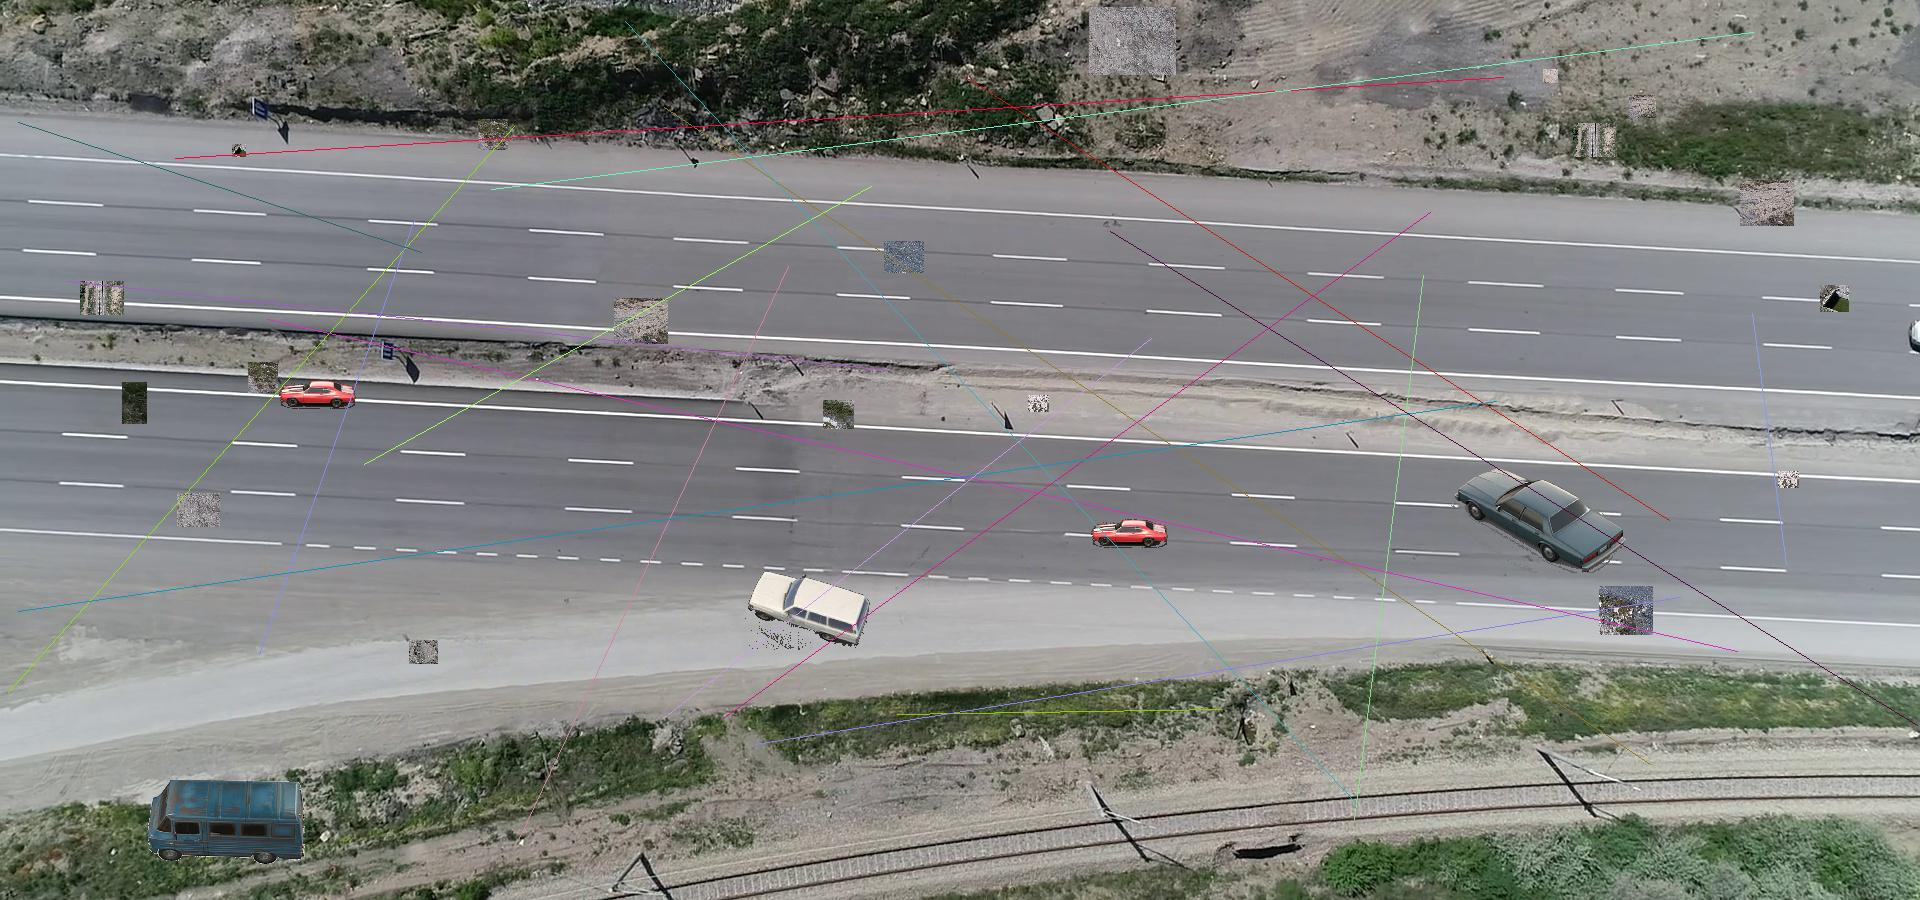arac: (1449, 467, 1626, 573), (148, 780, 305, 866), (740, 568, 869, 650), (1089, 517, 1169, 549), (276, 378, 358, 409)
